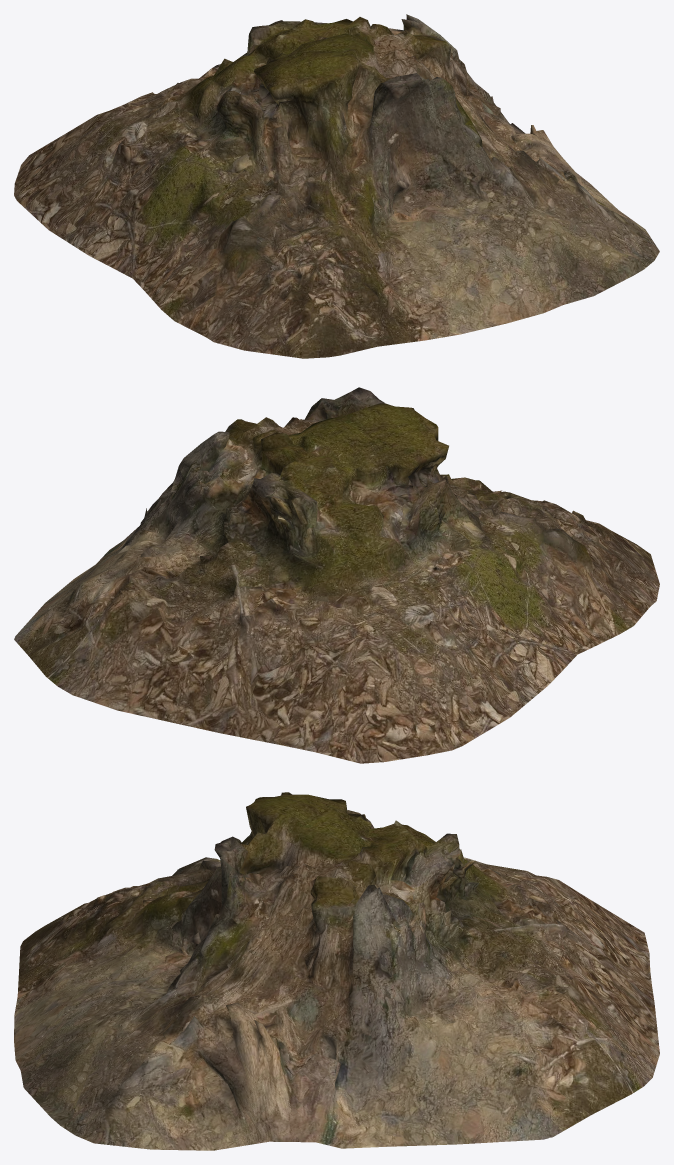
Rendered from tree_stump_01.glb.
The picture shows the model from 3 angles, top to bottom: view 1: azimuth 30°, elevation 25°; view 2: azimuth 150°, elevation 25°; view 3: azimuth 270°, elevation 25°; orthographic projection. The views are drawn at different scales.
Visible parts, largest first — view 1: tree_stump_01__lodS; view 2: tree_stump_01__lodS; view 3: tree_stump_01__lodS.
Boxes of the visible parts, left/top/right/bottom form: tree_stump_01__lodS: left=14, top=14, right=659, bottom=358; tree_stump_01__lodS: left=14, top=387, right=659, bottom=763; tree_stump_01__lodS: left=14, top=792, right=659, bottom=1150.
Size of what is drawn, in the model's own units: 1.42 by 0.5718 by 1.59.
1 material, 1 textured.
